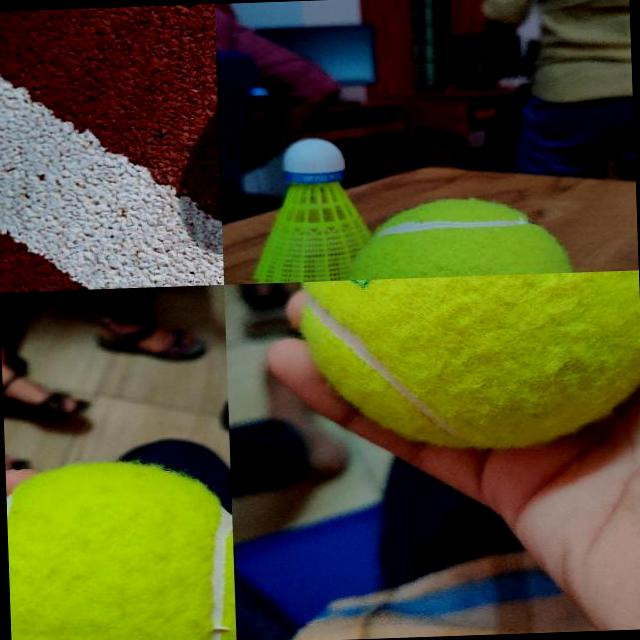Tennis Ball: (301, 269, 640, 452), (6, 458, 236, 640), (343, 195, 573, 279)
